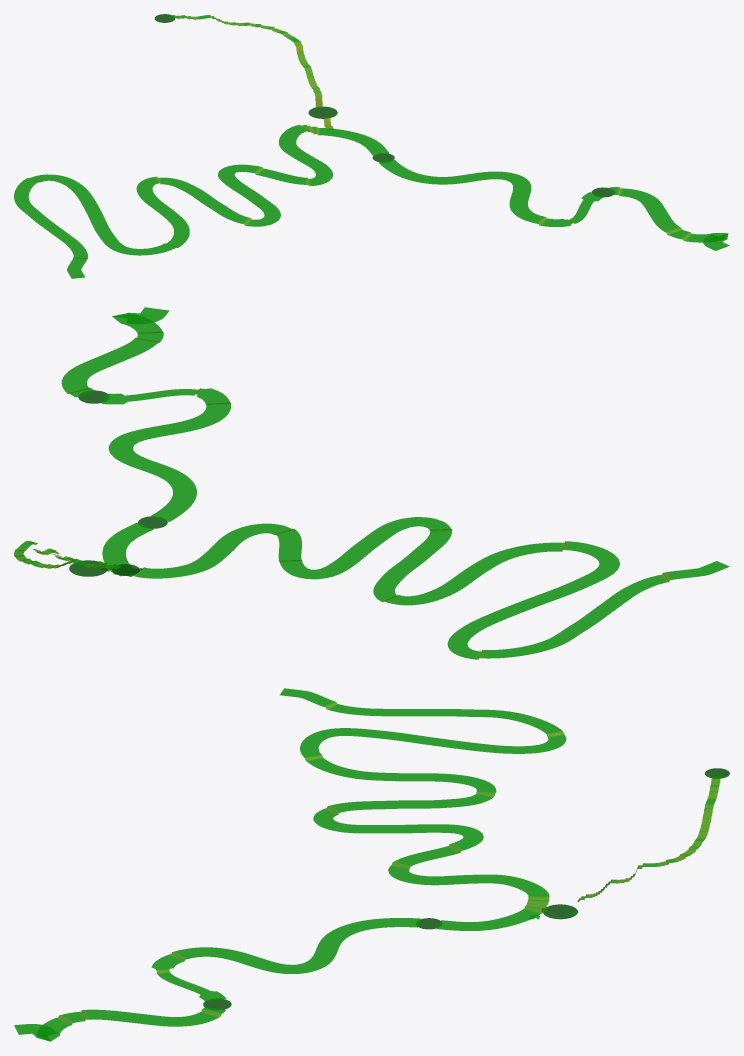
The model's file is agua.glb.
3 views of the same model, one above another, from view 1: azimuth 30°, elevation 25°; view 2: azimuth 150°, elevation 25°; view 3: azimuth 270°, elevation 25° (orthographic). The views are drawn at different scales.
Visible parts, largest first — view 1: agua; view 2: agua; view 3: agua.
Boxes of the visible parts, x1,y1,x2,y2 form: agua: (14, 14, 729, 278); agua: (14, 307, 729, 659); agua: (14, 688, 729, 1041).
Size of the model in its own units: 469 by 66 by 431.
